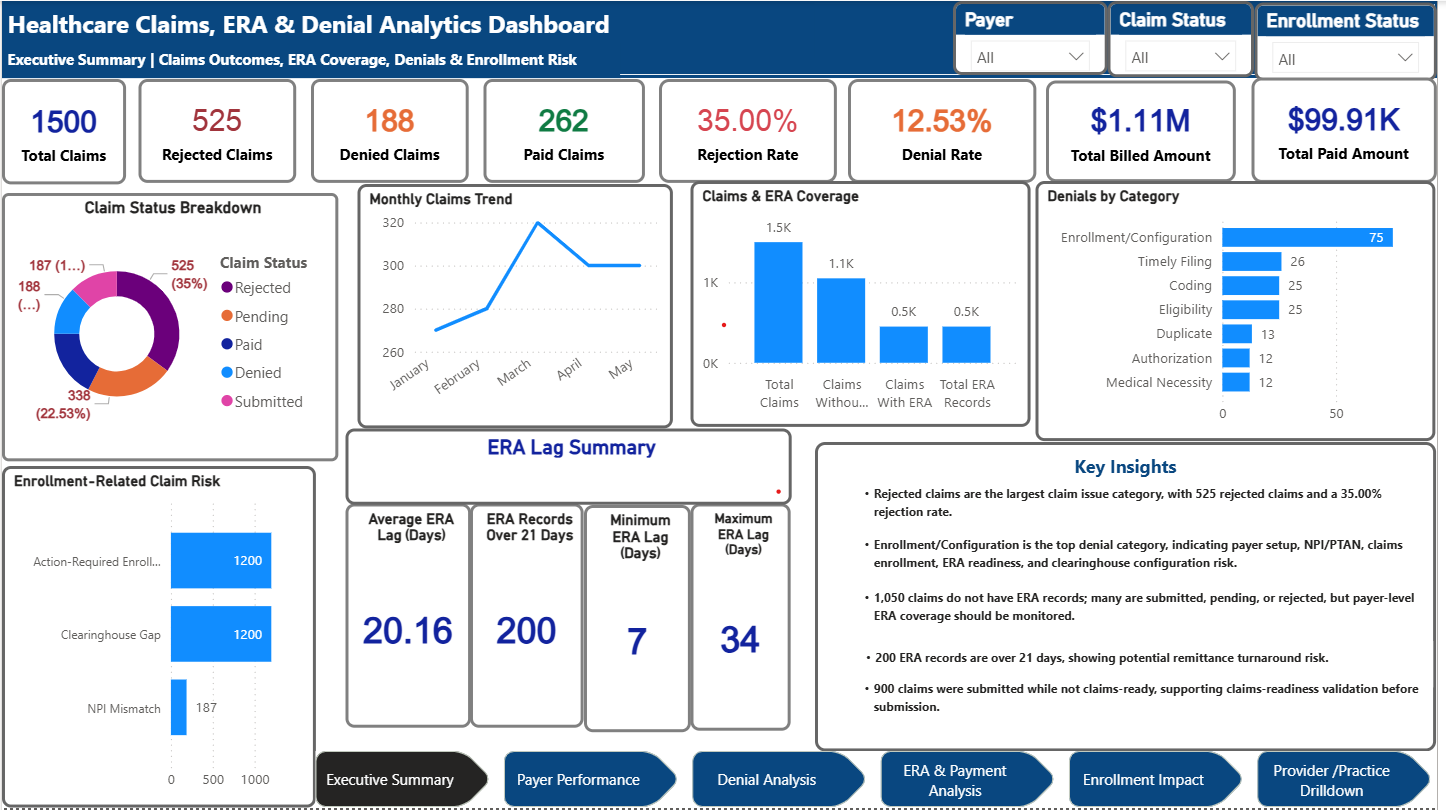

The page's visual inventory and layout, read from the dashboard file:
{"tool":"powerbi","page":{"name":"Executive Summary","canvas":[1280,720],"ordinal":0},"visuals":[{"type":"card","fields":{"Values":["_Measures.Total Claims"]},"box":[0,69.7,110.5,93.9],"z":0},{"type":"donutChart","title":"Claim Status Breakdown","fields":{"Category":["fact_claims.claim_status"],"Y":["_Measures.Total Claims"]},"box":[0,171.1,299.8,239.2],"z":1000},{"type":"card","fields":{"Values":["_Measures.Paid Claims"]},"box":[430,69.7,143.8,92.4],"z":2000},{"type":"card","fields":{"Values":["_Measures.Rejection Rate"]},"box":[586,69.7,159,92.4],"z":3000},{"type":"card","fields":{"Values":["_Measures.Denied Claims"]},"box":[275.6,69.7,140.8,92.4],"z":4000},{"type":"shape","box":[0,0,1280.6,68.5],"z":5000},{"type":"textbox","box":[0,0,724.7,50.5],"z":6000},{"type":"textbox","box":[0,37.9,551.1,31.6],"z":7000},{"type":"slicer","title":"Payer","fields":{"Values":["dim_payer.payer_name"]},"box":[848.5,0,138,66.1],"z":8000},{"type":"slicer","title":"Claim Status","fields":{"Values":["fact_claims.claim_status"]},"box":[986.5,0,130.4,68],"z":9000},{"type":"slicer","title":"Enrollment Status","fields":{"Values":["dim_enrollment.current_status"]},"box":[1116.9,1.9,162.5,69.9],"z":10000},{"type":"card","fields":{"Values":["_Measures.Denial Rate"]},"box":[754.1,69.7,168.1,92.4],"z":11000},{"type":"card","fields":{"Values":["_Measures.Total Billed Amount"]},"box":[931.8,71,169.4,90.9],"z":12000},{"type":"card","fields":{"Values":["_Measures.Total Paid Amount"]},"box":[1114.5,68.1,165,93.9],"z":13000},{"type":"lineChart","title":"Monthly Claims Trend ","fields":{"Category":["fact_claims.Claim Submit Month.Variation.Date Hierarchy.Month"],"Y":["_Measures.Total Claims"]},"box":[317.4,162.6,281.1,217.9],"z":14000},{"type":"clusteredColumnChart","title":"Claims & ERA Coverage ","fields":{"Category":["Summary Metric Table.Metric"],"Y":["_Measures.Summary Metric Value"]},"box":[614.2,161.1,303.2,219.5],"z":15000},{"type":"clusteredBarChart","title":" Denials by Category","fields":{"Category":["fact_denials.denial_category"],"Y":["_Measures.Total Denials"]},"box":[922.1,161.1,356.8,232.1],"z":16000},{"type":"clusteredBarChart","title":"Enrollment-Related Claim Risk","fields":{"Category":["Enrollment Risk Labels.Metric"],"Y":["_Measures.Enrollment Risk Value"]},"box":[0,414.9,280.1,304.4],"z":17000},{"type":"card","title":"Average ERA Lag (Days)","fields":{"Values":["_Measures.Average ERA Lag Days"]},"box":[305.9,448.2,112.1,199.9],"z":18000},{"type":"card","title":"ERA Records Over 21 Days","fields":{"Values":["_Measures.ERA Records Over 21 Days"]},"box":[417.9,448.2,101.5,199.9],"z":19000},{"type":"card","title":"Minimum ERA Lag (Days)","fields":{"Values":["_Measures.Minimum ERA Lag Days"]},"box":[519.4,449.7,95.4,202.9],"z":20000},{"type":"card","title":"Maximum ERA Lag (Days)","fields":{"Values":["_Measures.Maximum ERA Lag Days"]},"box":[614.8,448.2,89.3,202.9],"z":21000},{"type":"textbox","box":[724.7,393.2,554.2,276.3],"z":22000},{"type":"card","fields":{"Values":["_Measures.Rejected Claims"]},"box":[121.1,69.7,140.8,92.4],"z":23000},{"type":"textbox","title":"ERA Lag Summary","box":[305.9,381.6,398.2,68.1],"z":24000},{"type":"textbox","box":[754.1,425.5,520.9,45.4],"z":25000},{"type":"textbox","box":[754.1,470.9,520.9,46.9],"z":26000},{"type":"textbox","box":[754.1,517.9,520.9,53],"z":27000},{"type":"textbox","box":[755.6,570.9,520.9,40.9],"z":28000},{"type":"textbox","box":[754.1,599.6,520.9,48.5],"z":29000},{"type":"pageNavigator","box":[279.5,669.5,999.5,50.5],"z":29001}]}

Visuals, with their boxes in screenshot pixels (x1, y1, x2, y2), scaled from the page's 1280x720 canvas onto the 1446x810 screenshot:
card - _Measures.Total Claims: [left=0, top=78, right=125, bottom=184]
"Claim Status Breakdown" donutChart: [left=0, top=192, right=339, bottom=462]
card - _Measures.Paid Claims: [left=486, top=78, right=648, bottom=182]
card - _Measures.Rejection Rate: [left=662, top=78, right=842, bottom=182]
card - _Measures.Denied Claims: [left=311, top=78, right=470, bottom=182]
shape: [left=0, top=0, right=1445, bottom=77]
textbox: [left=0, top=0, right=819, bottom=57]
textbox: [left=0, top=43, right=623, bottom=78]
"Payer" slicer: [left=959, top=0, right=1114, bottom=74]
"Claim Status" slicer: [left=1114, top=0, right=1262, bottom=76]
"Enrollment Status" slicer: [left=1262, top=2, right=1445, bottom=81]
card - _Measures.Denial Rate: [left=852, top=78, right=1042, bottom=182]
card - _Measures.Total Billed Amount: [left=1053, top=80, right=1244, bottom=182]
card - _Measures.Total Paid Amount: [left=1259, top=77, right=1445, bottom=182]
"Monthly Claims Trend " lineChart: [left=359, top=183, right=676, bottom=428]
"Claims & ERA Coverage " clusteredColumnChart: [left=694, top=181, right=1036, bottom=428]
" Denials by Category" clusteredBarChart: [left=1042, top=181, right=1445, bottom=442]
"Enrollment-Related Claim Risk" clusteredBarChart: [left=0, top=467, right=316, bottom=809]
"Average ERA Lag (Days)" card: [left=346, top=504, right=472, bottom=729]
"ERA Records Over 21 Days" card: [left=472, top=504, right=587, bottom=729]
"Minimum ERA Lag (Days)" card: [left=587, top=506, right=695, bottom=734]
"Maximum ERA Lag (Days)" card: [left=695, top=504, right=795, bottom=732]
textbox: [left=819, top=442, right=1445, bottom=753]
card - _Measures.Rejected Claims: [left=137, top=78, right=296, bottom=182]
"ERA Lag Summary" textbox: [left=346, top=429, right=795, bottom=506]
textbox: [left=852, top=479, right=1440, bottom=530]
textbox: [left=852, top=530, right=1440, bottom=583]
textbox: [left=852, top=583, right=1440, bottom=642]
textbox: [left=854, top=642, right=1442, bottom=688]
textbox: [left=852, top=675, right=1440, bottom=729]
pageNavigator: [left=316, top=753, right=1445, bottom=809]
